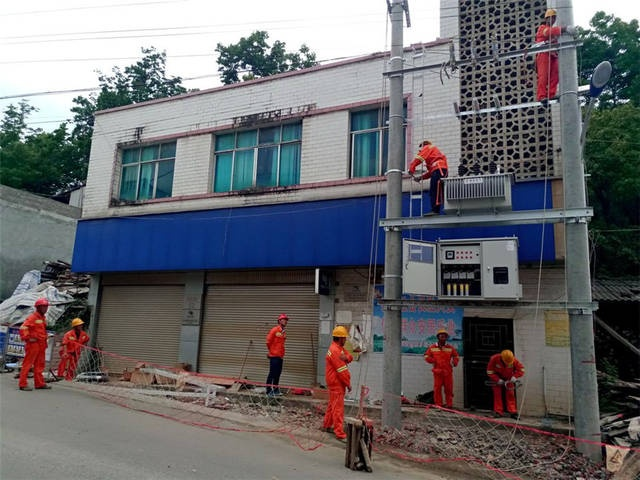red: (32, 296, 49, 315), (276, 313, 288, 326)
yellow: (329, 325, 349, 347), (542, 7, 558, 26), (499, 348, 515, 366), (70, 315, 83, 332), (434, 329, 449, 343)
